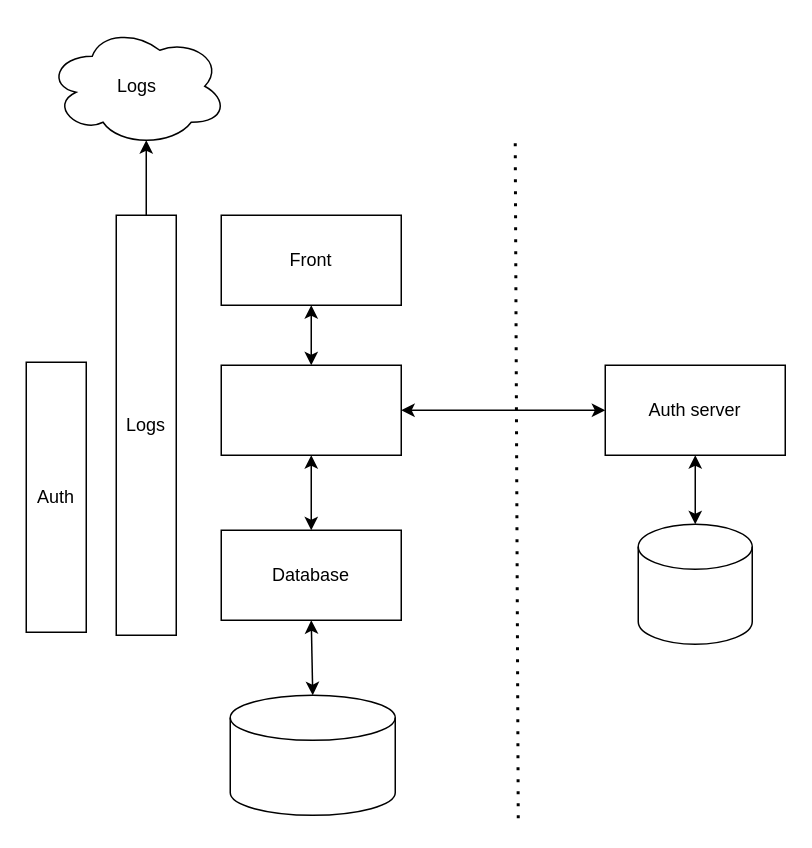
Image size: 812x848. Some labels were removed from this diagram. Each missing label, with the centre of its shape:
"App" belongs at (x=312, y=754).
"Back" belongs at (x=310, y=409).
"Credentials" belongs at (x=694, y=583).
